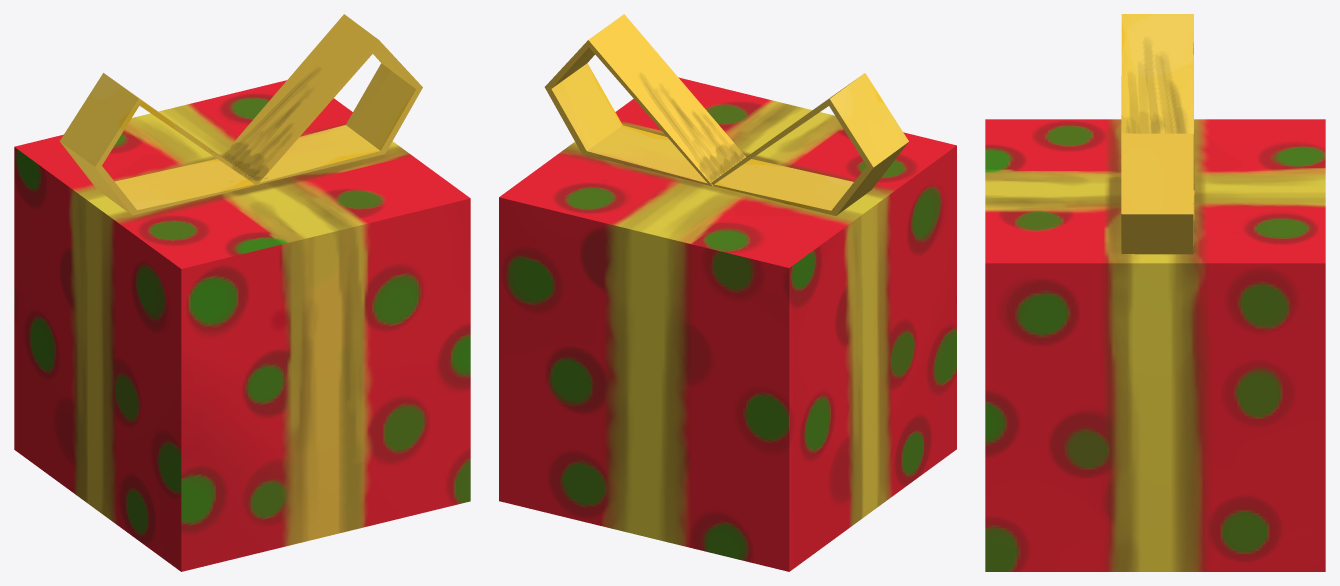
The model's file is gift.fbx.
3 views of the same model, side by side, from view 1: azimuth 30°, elevation 25°; view 2: azimuth 150°, elevation 25°; view 3: azimuth 270°, elevation 25° (orthographic).
Visible parts, largest first — view 1: Cube; view 2: Cube; view 3: Cube.
Part boxes in pixels (x1=…): Cube: x1=14, y1=14, x2=470, y2=571; Cube: x1=499, y1=14, x2=956, y2=571; Cube: x1=985, y1=14, x2=1325, y2=571.
Size of the model in its own units: 227 by 276 by 200.
